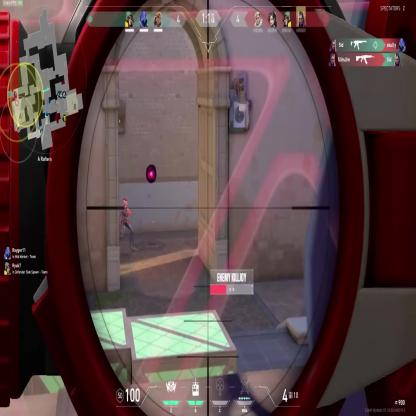enemy: (115, 196, 136, 253)
enemy_head: (123, 198, 128, 209)
